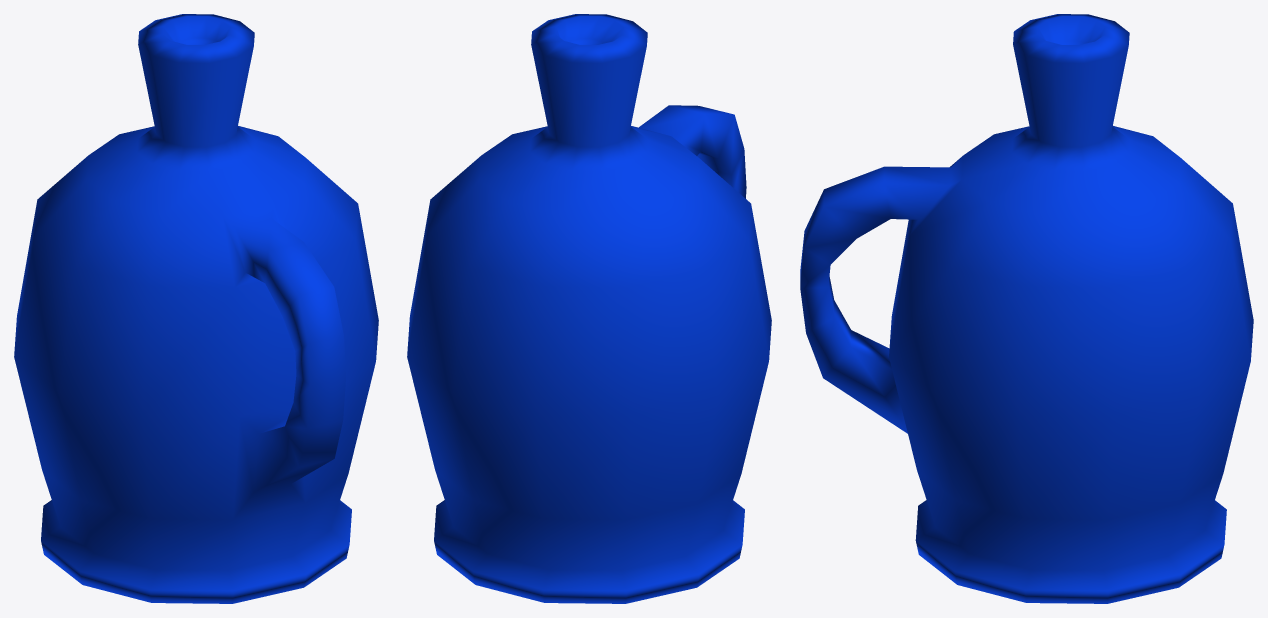
Rendered from Jar_04.fbx.
3 renders of one model, left to right at view 1: azimuth 30°, elevation 25°; view 2: azimuth 150°, elevation 25°; view 3: azimuth 270°, elevation 25°, orthographic.
Visible parts, largest first — view 1: Jar_04; view 2: Jar_04; view 3: Jar_04.
Part boxes in pixels (<box>): Jar_04: <box>14,14,378,603</box>; Jar_04: <box>407,14,771,603</box>; Jar_04: <box>800,14,1253,603</box>.
Size of the model in its own units: 23.99 by 36.91 by 29.82.
